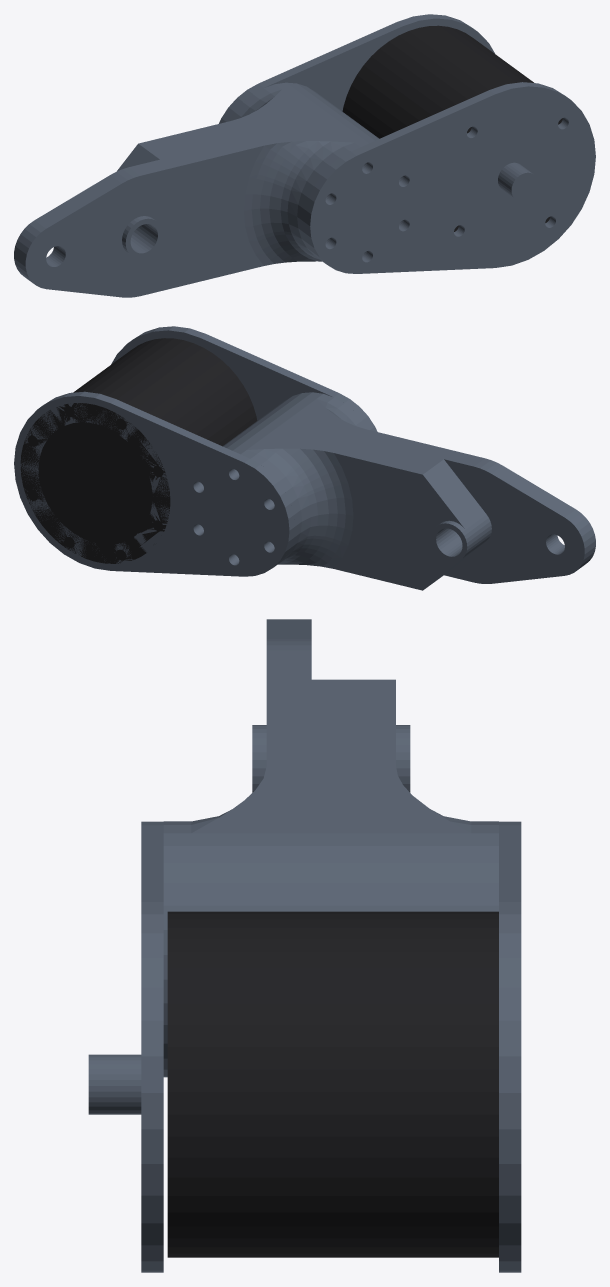
Rendered from shin_R.dae.
The picture shows the model from 3 angles, top to bottom: view 1: azimuth 30°, elevation 25°; view 2: azimuth 150°, elevation 25°; view 3: azimuth 270°, elevation 25°; orthographic projection. The views are drawn at different scales.
Visible parts, largest first — view 1: shin_R-printed, shin_R-motor; view 2: shin_R-printed, shin_R-motor; view 3: shin_R-motor, shin_R-printed.
Boxes of the visible parts, <box> form: shin_R-printed: <box>14,14,595,297</box>; shin_R-motor: <box>342,25,562,231</box>; shin_R-printed: <box>14,326,595,590</box>; shin_R-motor: <box>20,338,257,563</box>; shin_R-motor: <box>167,911,498,1257</box>; shin_R-printed: <box>88,619,521,1272</box>.
Bounding box in the file's own units: 0.159 × 0.0575 × 0.05.
